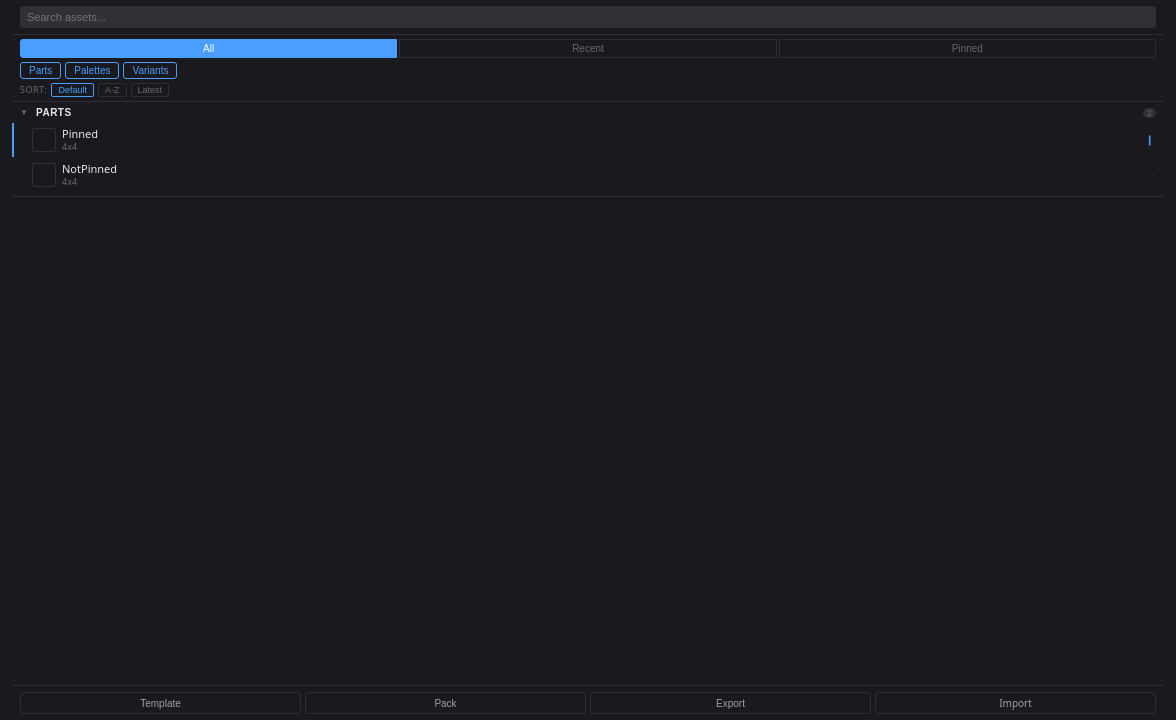
Scenario: LibraryPanel › Pinned view shows only pinned items
Click the button with test id "lib-view-pinned" at coordinates (967, 48), box [779,39,1156,58]
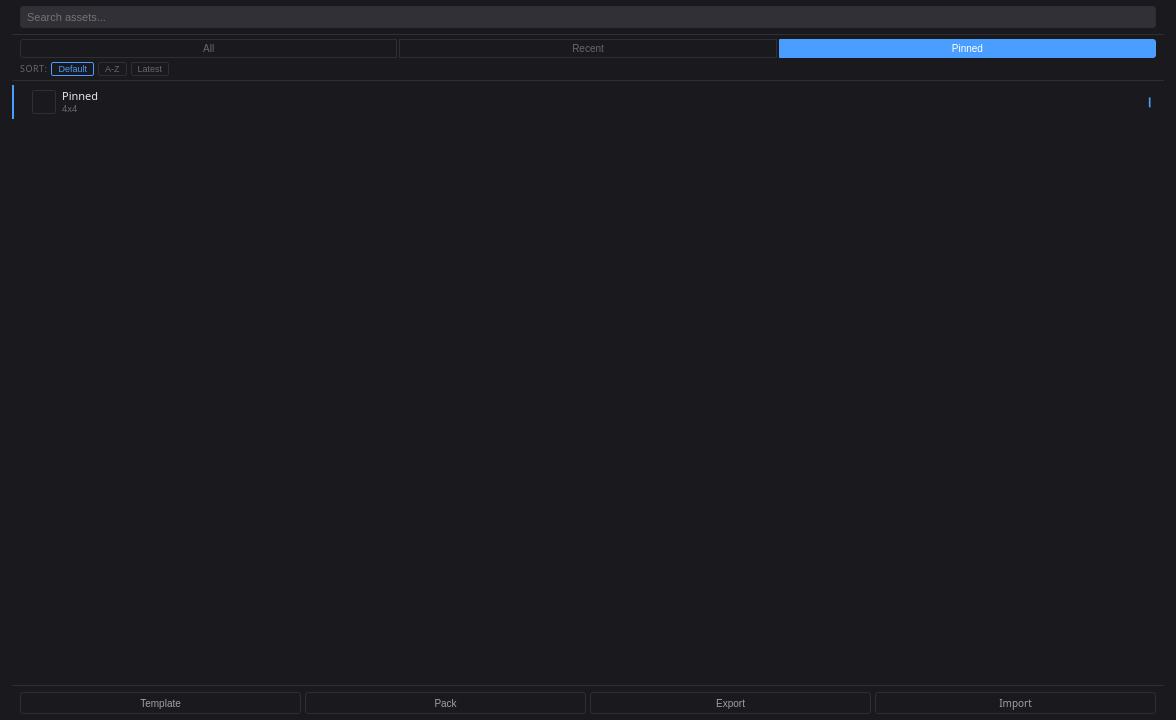
Expected: the element with test id "lib-item-pinned-1" is shown, [12,85,1164,119]
Now the element with test id "lib-item-not-pinned" is gone
